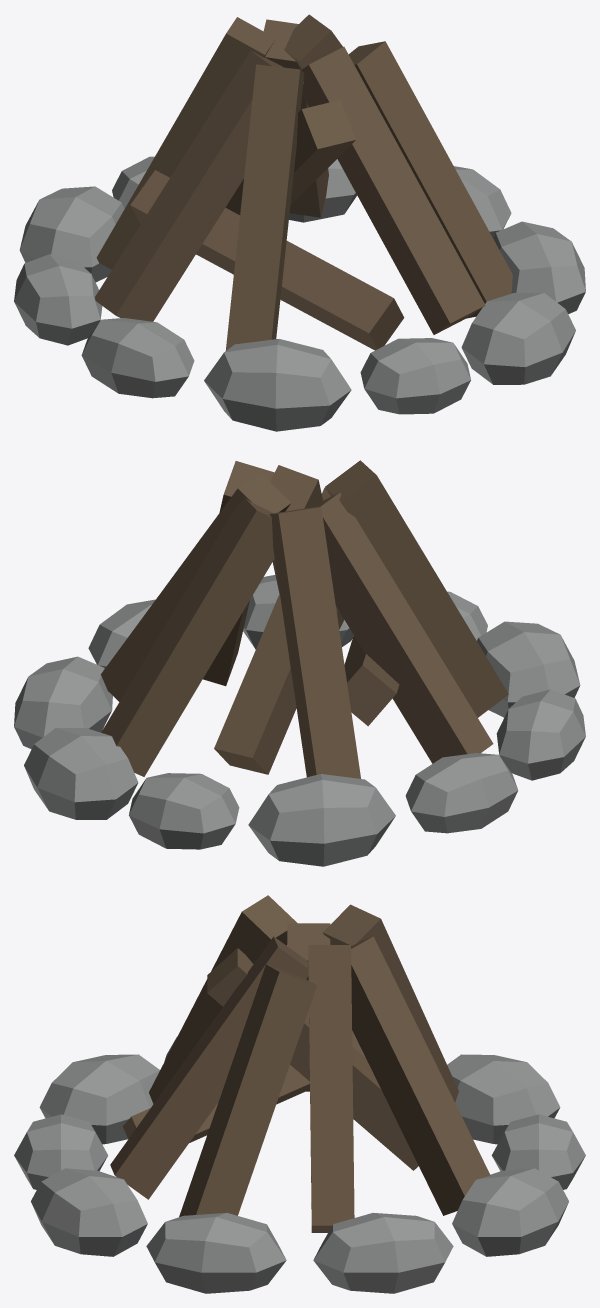
Rendered from fire.glb.
3 views of the same model, one above another, from view 1: azimuth 30°, elevation 25°; view 2: azimuth 150°, elevation 25°; view 3: azimuth 270°, elevation 25° (orthographic). The views are drawn at different scales.
Visible parts, largest first — view 1: Rocks; view 2: Rocks; view 3: Rocks.
Boxes of the visible parts, <box> form: Rocks: <box>14,14,585,431</box>; Rocks: <box>14,460,585,866</box>; Rocks: <box>14,895,585,1293</box>.
Bounding box in the file's own units: 4.17 × 2.41 × 4.52.
